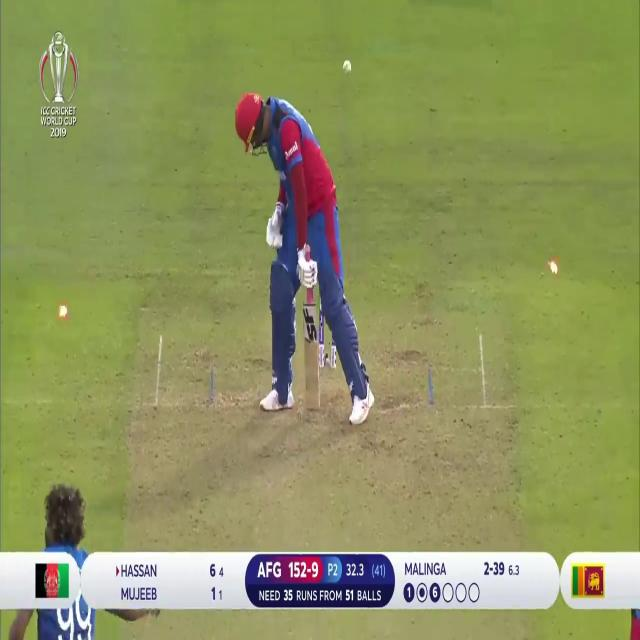ball: (340, 54, 355, 78)
